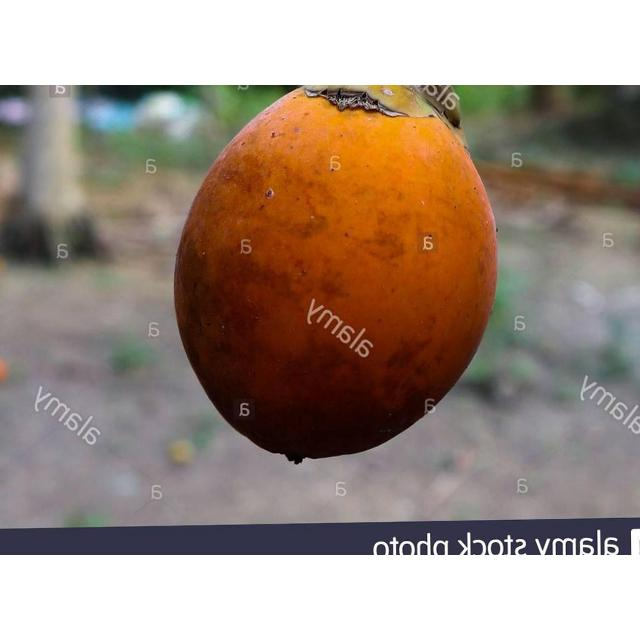good: (172, 85, 499, 466)
